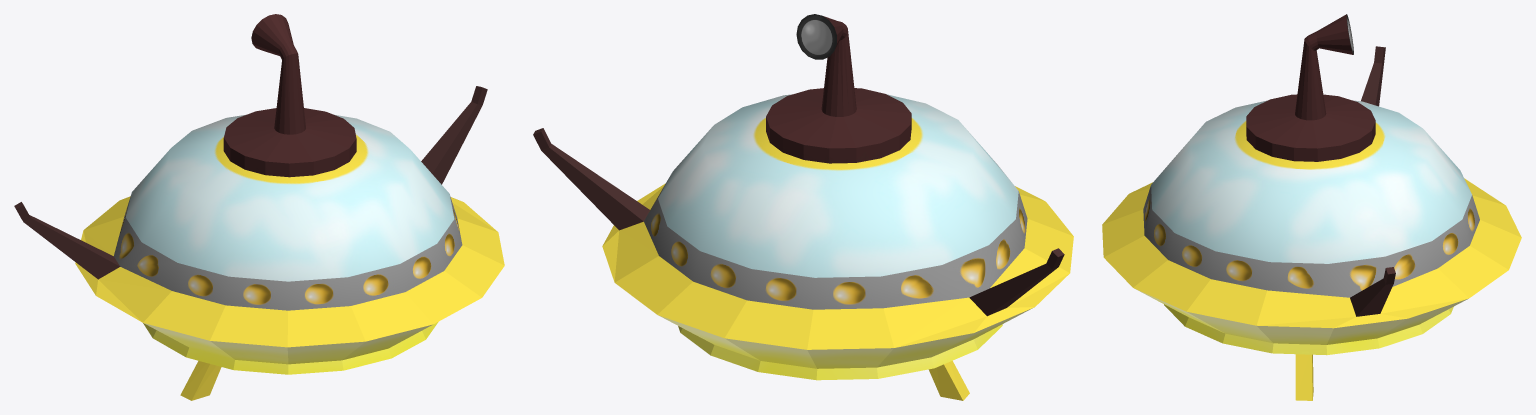
The model's file is UFO.FBX.
The picture shows the model from 3 angles, left to right: view 1: azimuth 30°, elevation 25°; view 2: azimuth 150°, elevation 25°; view 3: azimuth 270°, elevation 25°; orthographic projection. The views are drawn at different scales.
Parts seen in each view (by area): view 1: Sphere001; view 2: Sphere001; view 3: Sphere001.
Part boxes in pixels (x1,y1,x2,y2): Sphere001: (14, 14, 504, 400); Sphere001: (533, 14, 1073, 400); Sphere001: (1102, 14, 1521, 400).
Size of the model in its own units: 80.81 by 54.88 by 62.92.
Materials: 1 (1 with a texture image).
